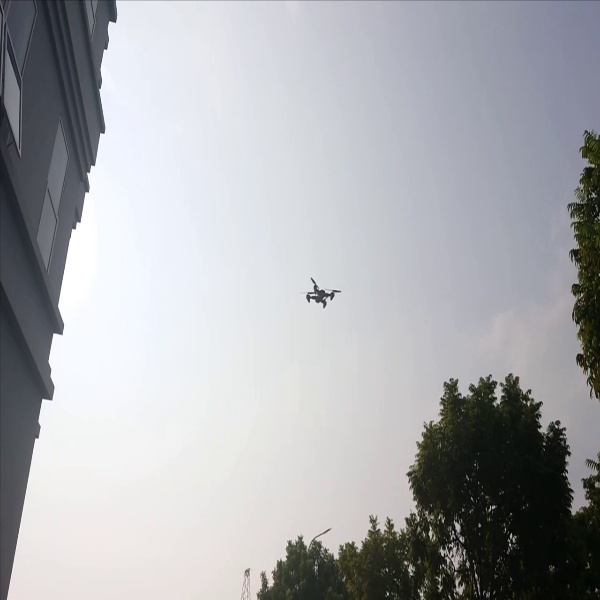drone: (295, 268, 350, 311)
